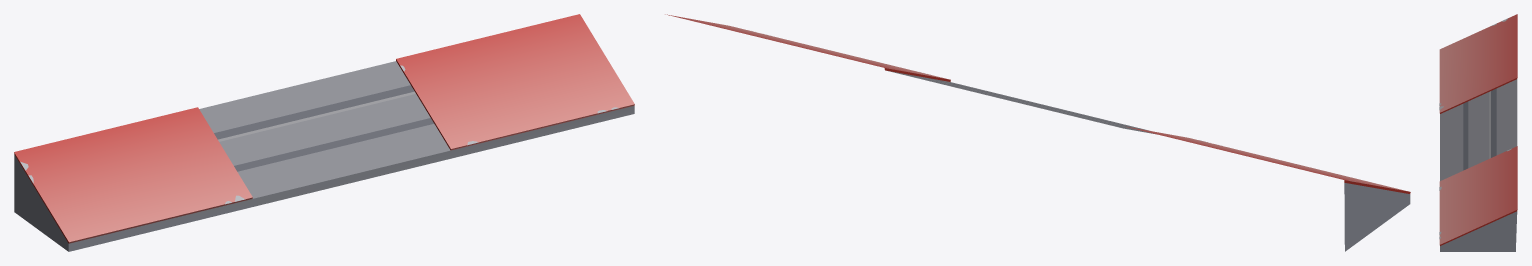
The model's file is StartGateRampRed.glb.
The picture shows the model from 3 angles, left to right: view 1: azimuth 30°, elevation 25°; view 2: azimuth 150°, elevation 25°; view 3: azimuth 270°, elevation 25°; orthographic projection. The views are drawn at different scales.
Parts seen in each view (by area): view 1: StartGateRampRed; view 2: StartGateRampRed; view 3: StartGateRampRed.
Part boxes in pixels (bbox=[...]): StartGateRampRed: bbox=[14, 14, 634, 251]; StartGateRampRed: bbox=[665, 14, 1410, 251]; StartGateRampRed: bbox=[1439, 14, 1517, 251].
Size of the model in its own units: 6.47 by 0.6552 by 1.09.
